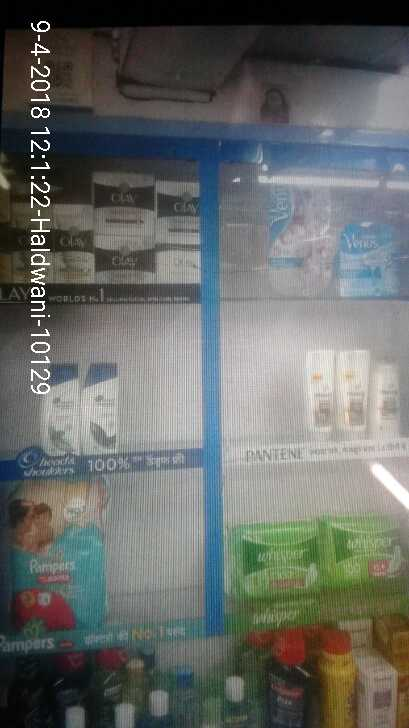venus: (272, 169, 333, 296), (341, 218, 404, 297)
